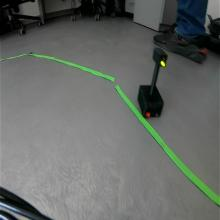green: (152, 46, 168, 68)
